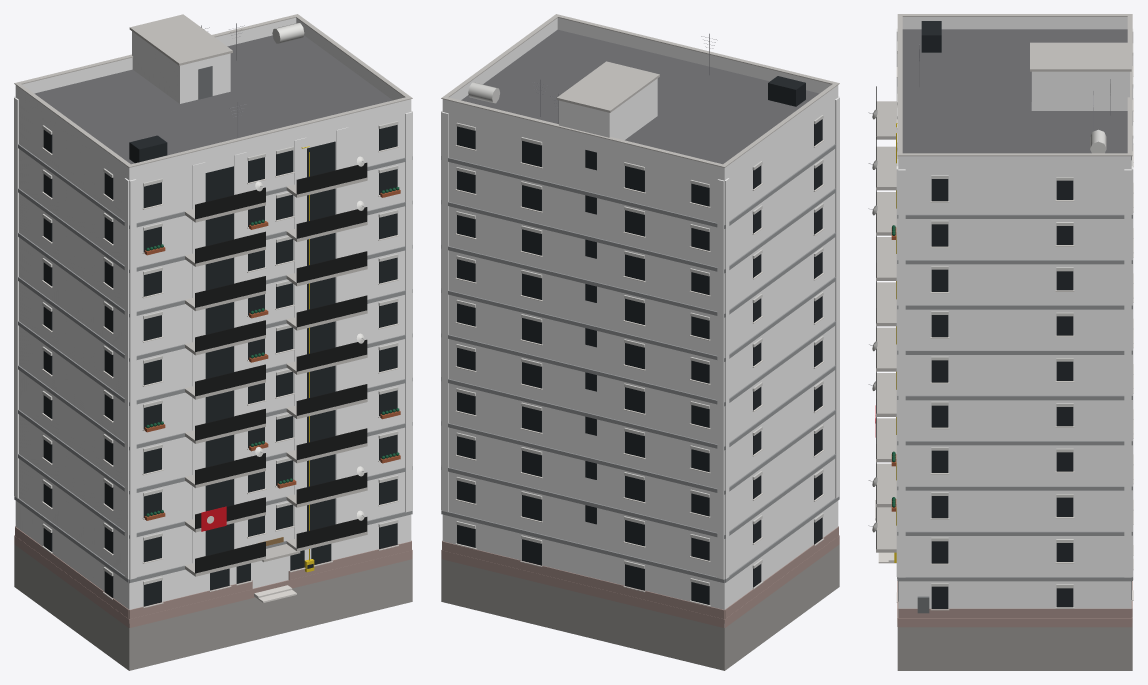
Rendered from bina_09.glb.
The picture shows the model from 3 angles, left to right: view 1: azimuth 30°, elevation 25°; view 2: azimuth 150°, elevation 25°; view 3: azimuth 270°, elevation 25°; orthographic projection. The views are drawn at different scales.
Visible parts, largest first — view 1: P09_Apt_Konut_D_L1.001; view 2: P09_Apt_Konut_D_L1.001; view 3: P09_Apt_Konut_D_L1.001.
Boxes of the visible parts, box(x1,y1,x2,y2) form: P09_Apt_Konut_D_L1.001: box(14, 14, 412, 670); P09_Apt_Konut_D_L1.001: box(441, 14, 839, 670); P09_Apt_Konut_D_L1.001: box(868, 14, 1133, 670).
Size of the model in its own units: 20.31 by 36.06 by 15.91.
